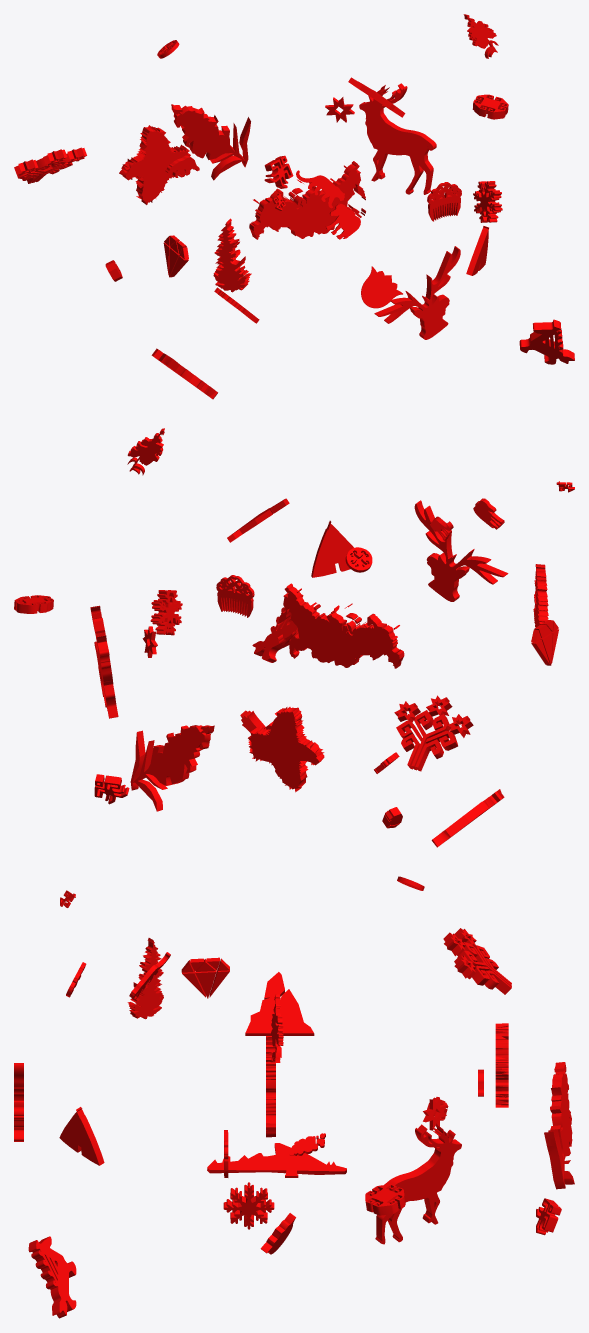
The picture shows the model from 3 angles, top to bottom: view 1: azimuth 30°, elevation 25°; view 2: azimuth 150°, elevation 25°; view 3: azimuth 270°, elevation 25°; orthographic projection. The views are drawn at different scales.
Visible parts, largest first — view 1: russia, Extrude_3_4, Extrude_1_2, bird, Extrude_2_3, Extrude_4_3, Extrude, Extrude_2, tulip, Extrude_5, Extrude_2_4, Extrude_3_2 (+7 smaller); view 2: russia, Extrude_1_2, bird, Extrude_2, Extrude_2_3, Extrude_1_3, Extrude_3_4, Extrude_5, Extrude_2_4, Extrude, Extrude_3_2, Extrude_2_2 (+7 smaller); view 3: Extrude_3_4, Extrude_1_2, Extrude_2_2, gora, Extrude_2, Extrude, Extrude_2_4, Extrude_4_3, Extrude_1_3, Extrude_8, bird, Extrude_4 (+6 smaller).
Part boxes in pixels (x1,y1,x2,y2): russia: [249, 161, 365, 239]; Extrude_3_4: [359, 83, 436, 194]; Extrude_1_2: [171, 104, 250, 180]; bird: [119, 125, 190, 204]; Extrude_2_3: [374, 246, 460, 339]; Extrude_4_3: [213, 218, 251, 292]; Extrude: [519, 319, 574, 364]; Extrude_2: [14, 147, 86, 183]; tulip: [361, 266, 402, 308]; Extrude_5: [427, 182, 461, 221]; Extrude_2_4: [473, 181, 502, 222]; Extrude_3_2: [463, 14, 498, 58]; russia: [277, 583, 404, 668]; Extrude_1_2: [130, 725, 214, 811]; bird: [248, 707, 324, 792]; Extrude_2: [394, 695, 473, 771]; Extrude_2_3: [414, 500, 508, 601]; Extrude_1_3: [311, 520, 353, 577]; Extrude_3_4: [90, 605, 118, 718]; Extrude_5: [216, 575, 254, 617]; Extrude_2_4: [150, 590, 182, 635]; Extrude: [252, 594, 303, 662]; Extrude_3_2: [127, 428, 164, 475]; Extrude_2_2: [431, 789, 504, 847]; Extrude_3_4: [375, 1124, 461, 1244]; Extrude_1_2: [544, 1062, 574, 1189]; Extrude_2_2: [207, 1143, 346, 1174]; gora: [245, 972, 314, 1035]; Extrude_2: [443, 928, 511, 994]; Extrude: [28, 1236, 76, 1318]; Extrude_2_4: [223, 1182, 274, 1229]; Extrude_4_3: [127, 938, 163, 1019]; Extrude_1_3: [59, 1107, 104, 1165]; Extrude_8: [181, 957, 229, 998]; bird: [495, 1023, 508, 1107]; Extrude_4: [365, 1184, 405, 1215].
Size of the model in its own units: 1.21 by 0.7565 by 1.14.
